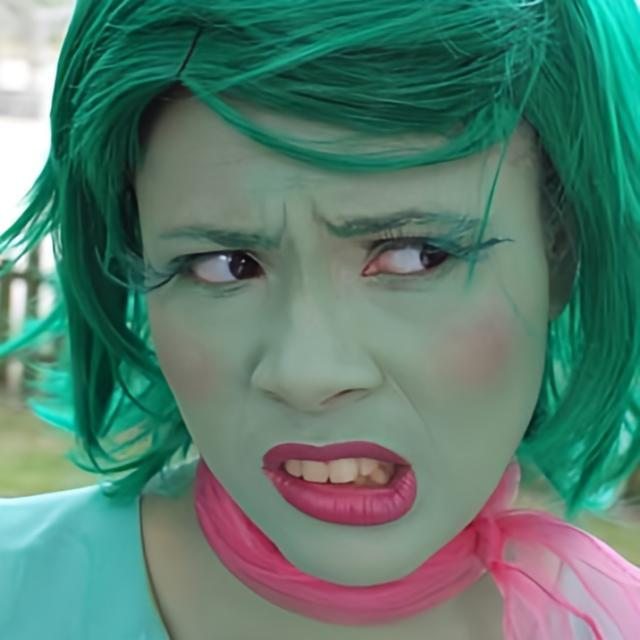disgust: (128, 72, 546, 588)
